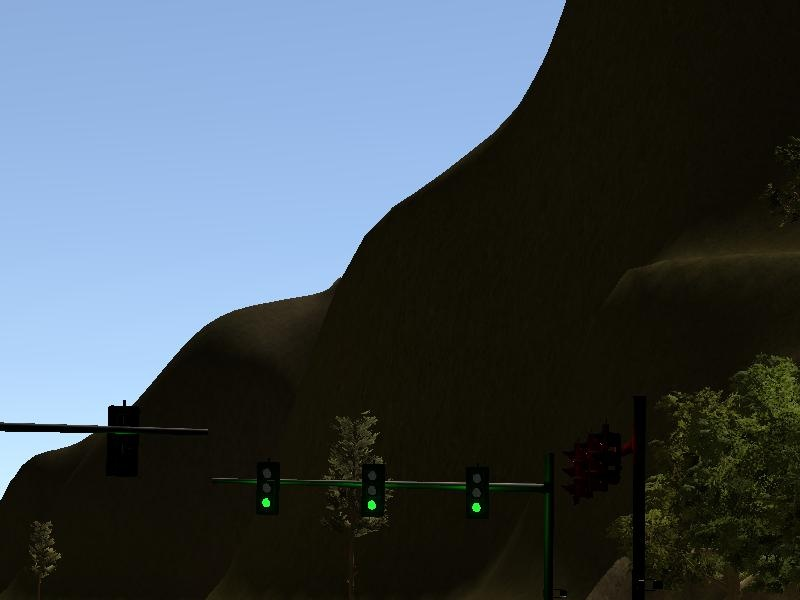Green: (465, 465, 490, 521), (361, 463, 385, 517), (256, 461, 279, 515)
